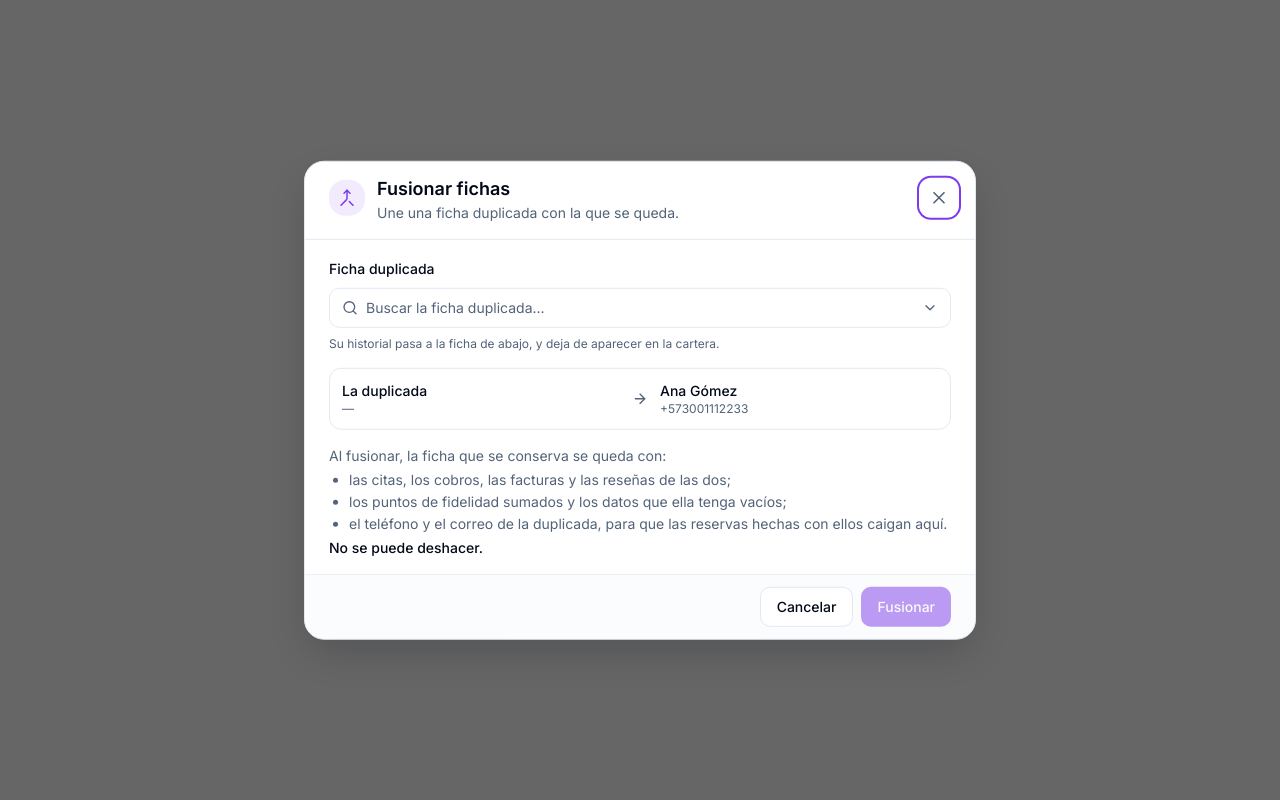
Test: MergeDialog › identifica las fichas por su contacto, que es lo que las distingue
The width and height of the screenshot is (1280, 800).
Las opciones viven en la lista del selector, que se despliega al pulsar.
Click the button labelled "Buscar la ficha duplicada...": {"x": 455, "y": 307} [329,287,951,327]
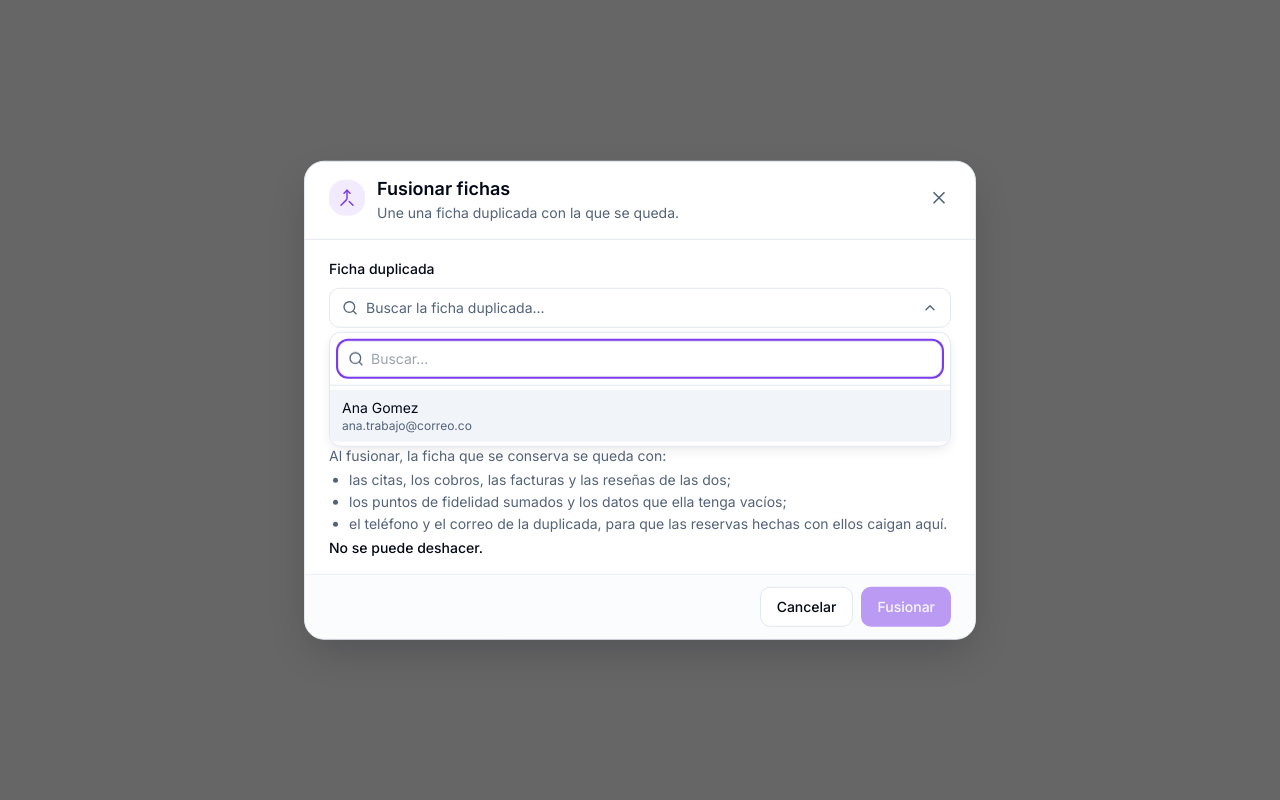
expect the option "Ana Gomez ana.trabajo@correo.co" is shown: met, box [330,389,950,441]
